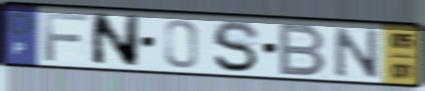0: (162, 18, 200, 70)
B: (276, 22, 329, 78)
F: (41, 11, 91, 63)
N: (89, 11, 143, 69), (331, 24, 382, 80)
S: (210, 19, 262, 75)
